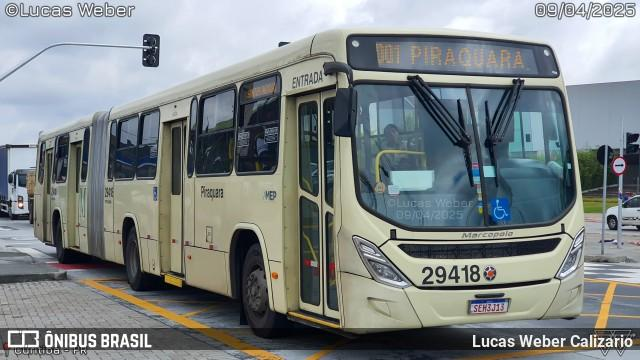PIRAQUARA: (406, 43, 528, 72)
